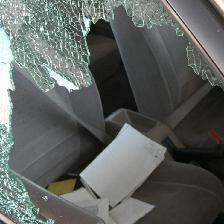glass_shatter: (2, 5, 218, 221)
